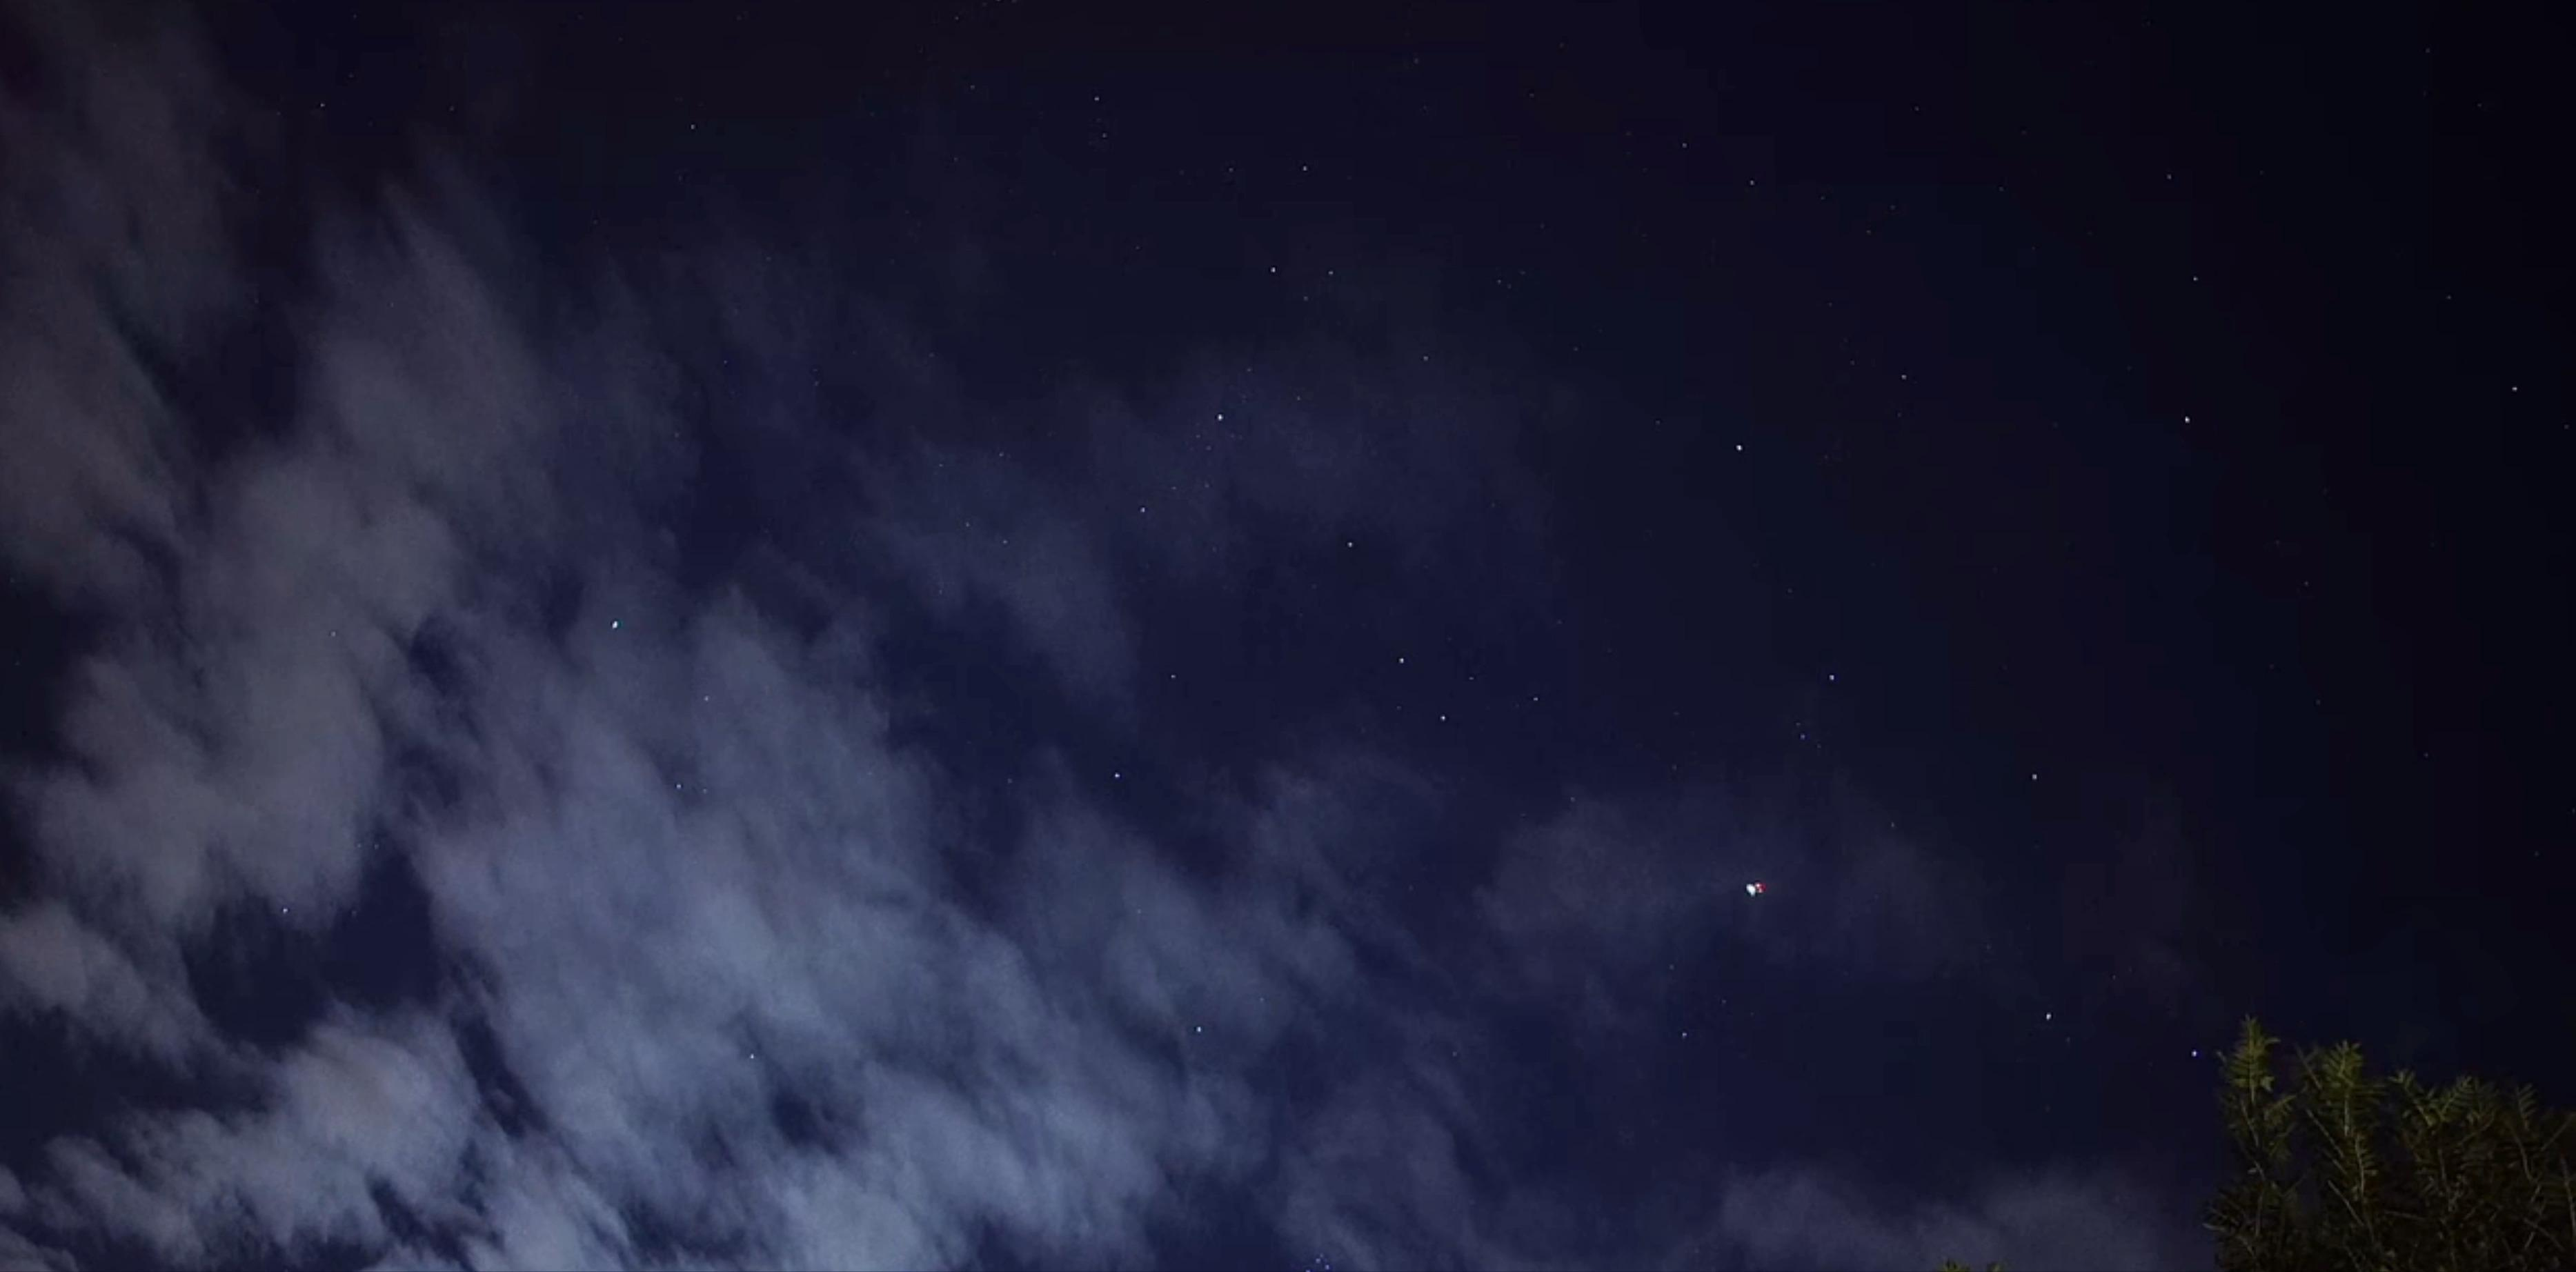Plane: (1735, 858, 1778, 929)
